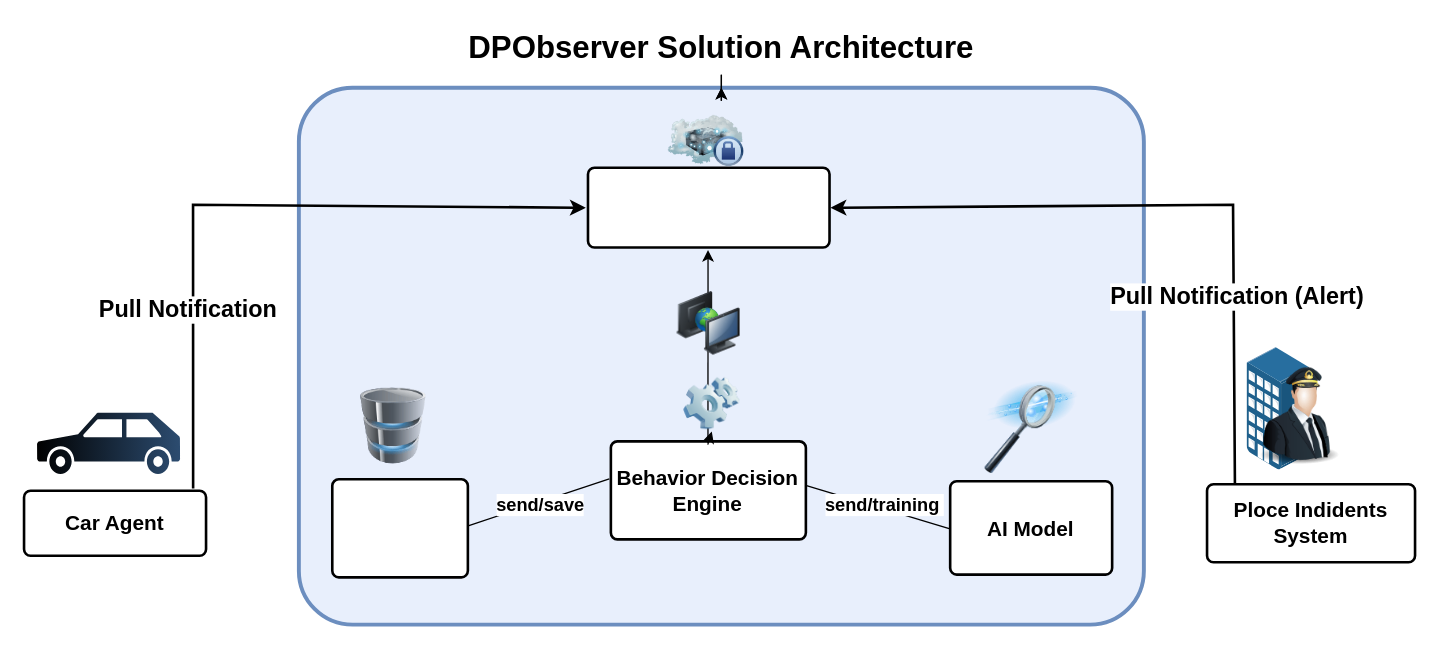
Image size: 1438x649. Some labels were removed from this diagram. The centre of each missing label's shape, as x and y in pixels:
"Alert Server" goes at (x=708, y=207).
"Data Collector" goes at (x=399, y=527).
